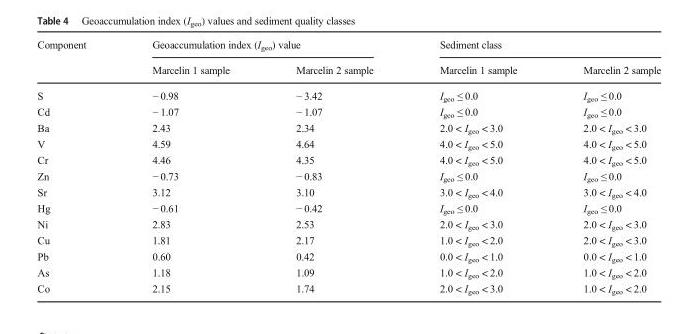table: (36, 37, 660, 294)
table column: (118, 37, 262, 294), (405, 37, 549, 294), (262, 37, 405, 294), (549, 37, 660, 294), (36, 37, 118, 294)
table column header: (36, 37, 660, 81)
table row: (36, 57, 660, 81), (36, 81, 660, 102), (36, 37, 660, 57), (36, 102, 660, 119), (36, 247, 660, 264), (36, 119, 660, 135), (36, 135, 660, 151), (36, 151, 660, 167), (36, 167, 660, 183), (36, 183, 660, 199), (36, 199, 660, 215), (36, 215, 660, 231), (36, 231, 660, 247), (36, 264, 660, 280), (36, 280, 660, 294)
table spanning cell: (118, 37, 405, 57), (405, 37, 660, 57), (36, 37, 118, 81)
